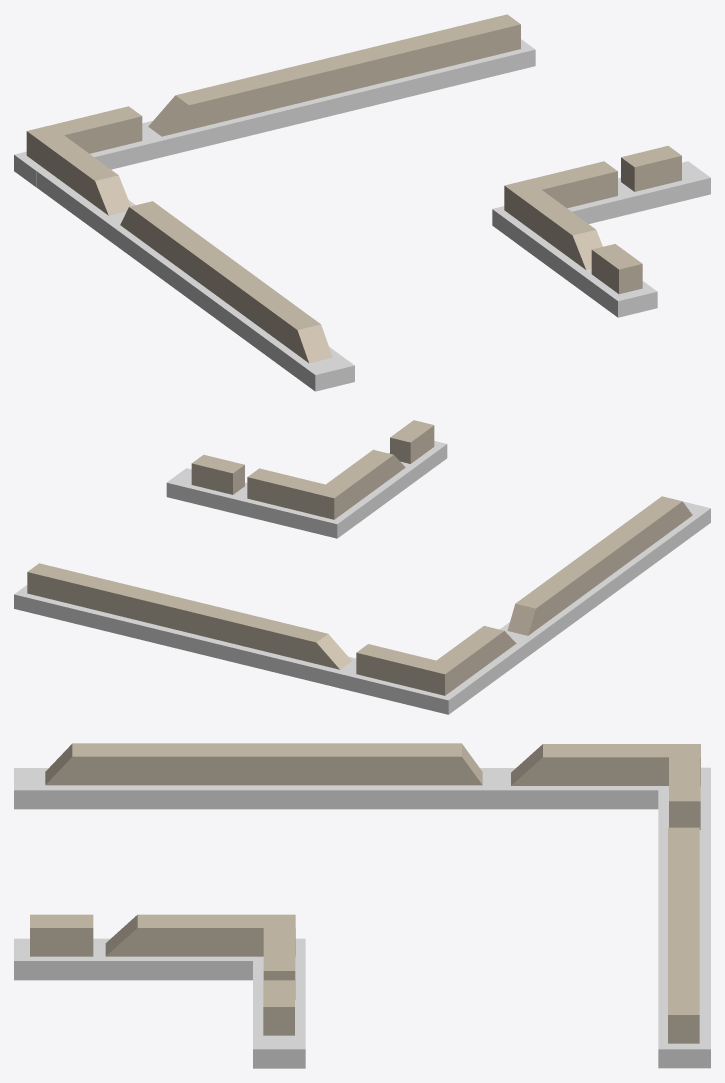
The model's file is RailTaille_Angle_Petit.FBX.
The picture shows the model from 3 angles, top to bottom: view 1: azimuth 30°, elevation 25°; view 2: azimuth 150°, elevation 25°; view 3: azimuth 270°, elevation 25°; orthographic projection. The views are drawn at different scales.
Parts seen in each view (by area): view 1: Box570, Box566, Box568, Box569, Box567, Box572, Box573, Box571, Box565, Box574, Box576, Box575; view 2: Box570, Box566, Box568, Box569, Box573, Box572, Box567, Box565, Box574, Box571, Box576, Box575; view 3: Box568, Box569, Box566, Box570, Box572, Box567, Box571, Box573, Box575, Box565, Box576, Box574.
Boxes of the visible parts, left/top/right/bottom form: Box570: left=148, top=14, right=520, bottom=136; Box566: left=14, top=39, right=535, bottom=187; Box568: left=120, top=201, right=332, bottom=363; Box569: left=37, top=169, right=354, bottom=391; Box567: left=26, top=125, right=130, bottom=215; Box572: left=504, top=180, right=602, bottom=270; Box573: left=492, top=161, right=710, bottom=241; Box571: left=515, top=224, right=657, bottom=317; Box565: left=50, top=106, right=142, bottom=153; Box574: left=525, top=161, right=617, bottom=208; Box576: left=621, top=145, right=681, bottom=191; Box575: left=591, top=244, right=642, bottom=294; Box570: left=27, top=563, right=351, bottom=669; Box566: left=14, top=585, right=468, bottom=714; Box568: left=507, top=496, right=692, bottom=635; Box569: left=461, top=501, right=710, bottom=699; Box573: left=166, top=468, right=357, bottom=538; Box572: left=313, top=449, right=405, bottom=519; Box567: left=424, top=626, right=516, bottom=695; Box565: left=356, top=644, right=436, bottom=690; Box574: left=247, top=468, right=327, bottom=514; Box571: left=351, top=441, right=447, bottom=523; Box576: left=191, top=454, right=244, bottom=494; Box575: left=390, top=420, right=434, bottom=463; Box568: left=45, top=743, right=482, bottom=785; Box569: left=14, top=768, right=658, bottom=809; Box566: left=658, top=767, right=710, bottom=1068; Box570: left=668, top=827, right=699, bottom=1043; Box572: left=105, top=914, right=295, bottom=956; Box567: left=511, top=744, right=700, bottom=785; Box571: left=14, top=938, right=252, bottom=980; Box573: left=253, top=938, right=305, bottom=1068; Box575: left=30, top=914, right=93, bottom=956; Box565: left=669, top=757, right=700, bottom=829; Box576: left=263, top=980, right=294, bottom=1035; Box574: left=263, top=926, right=295, bottom=999.
Bounding box in the file's own units: 249 × 19.64 × 260.
